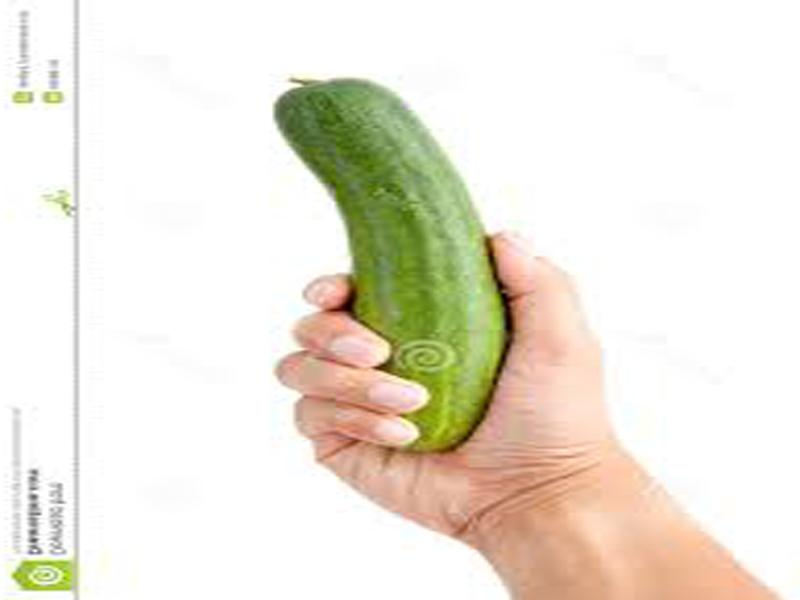Cucumber: (273, 76, 501, 451)
